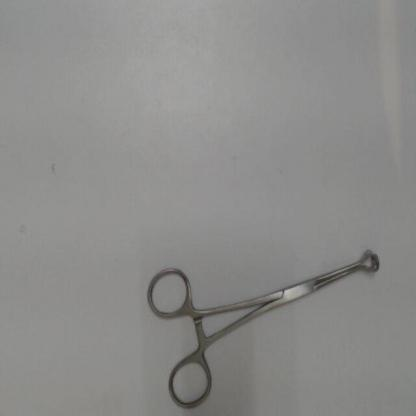Babcock Tissue Forceps: (142, 242, 386, 413)
